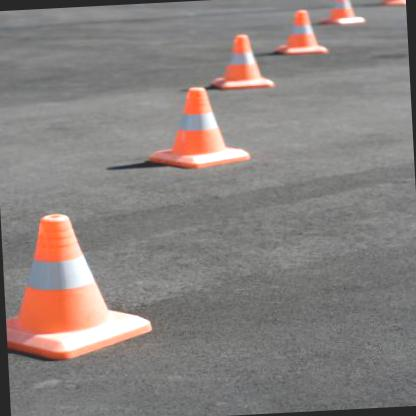cone: (4, 209, 154, 360), (142, 83, 248, 169), (208, 31, 275, 90), (272, 6, 330, 57)
